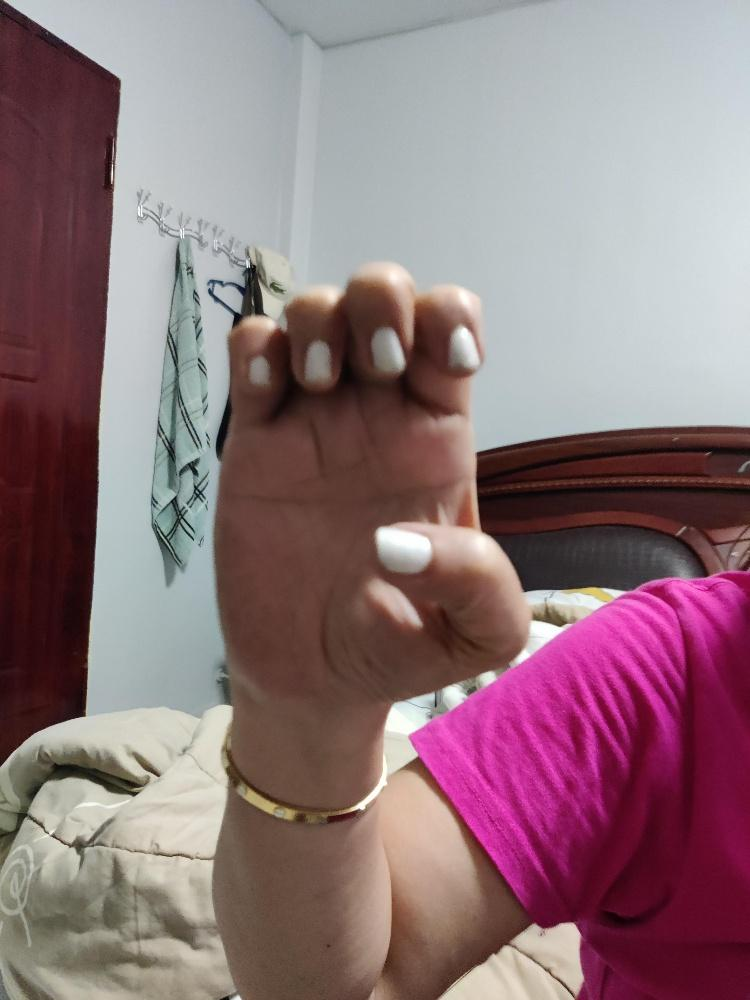e: (210, 256, 531, 710)
